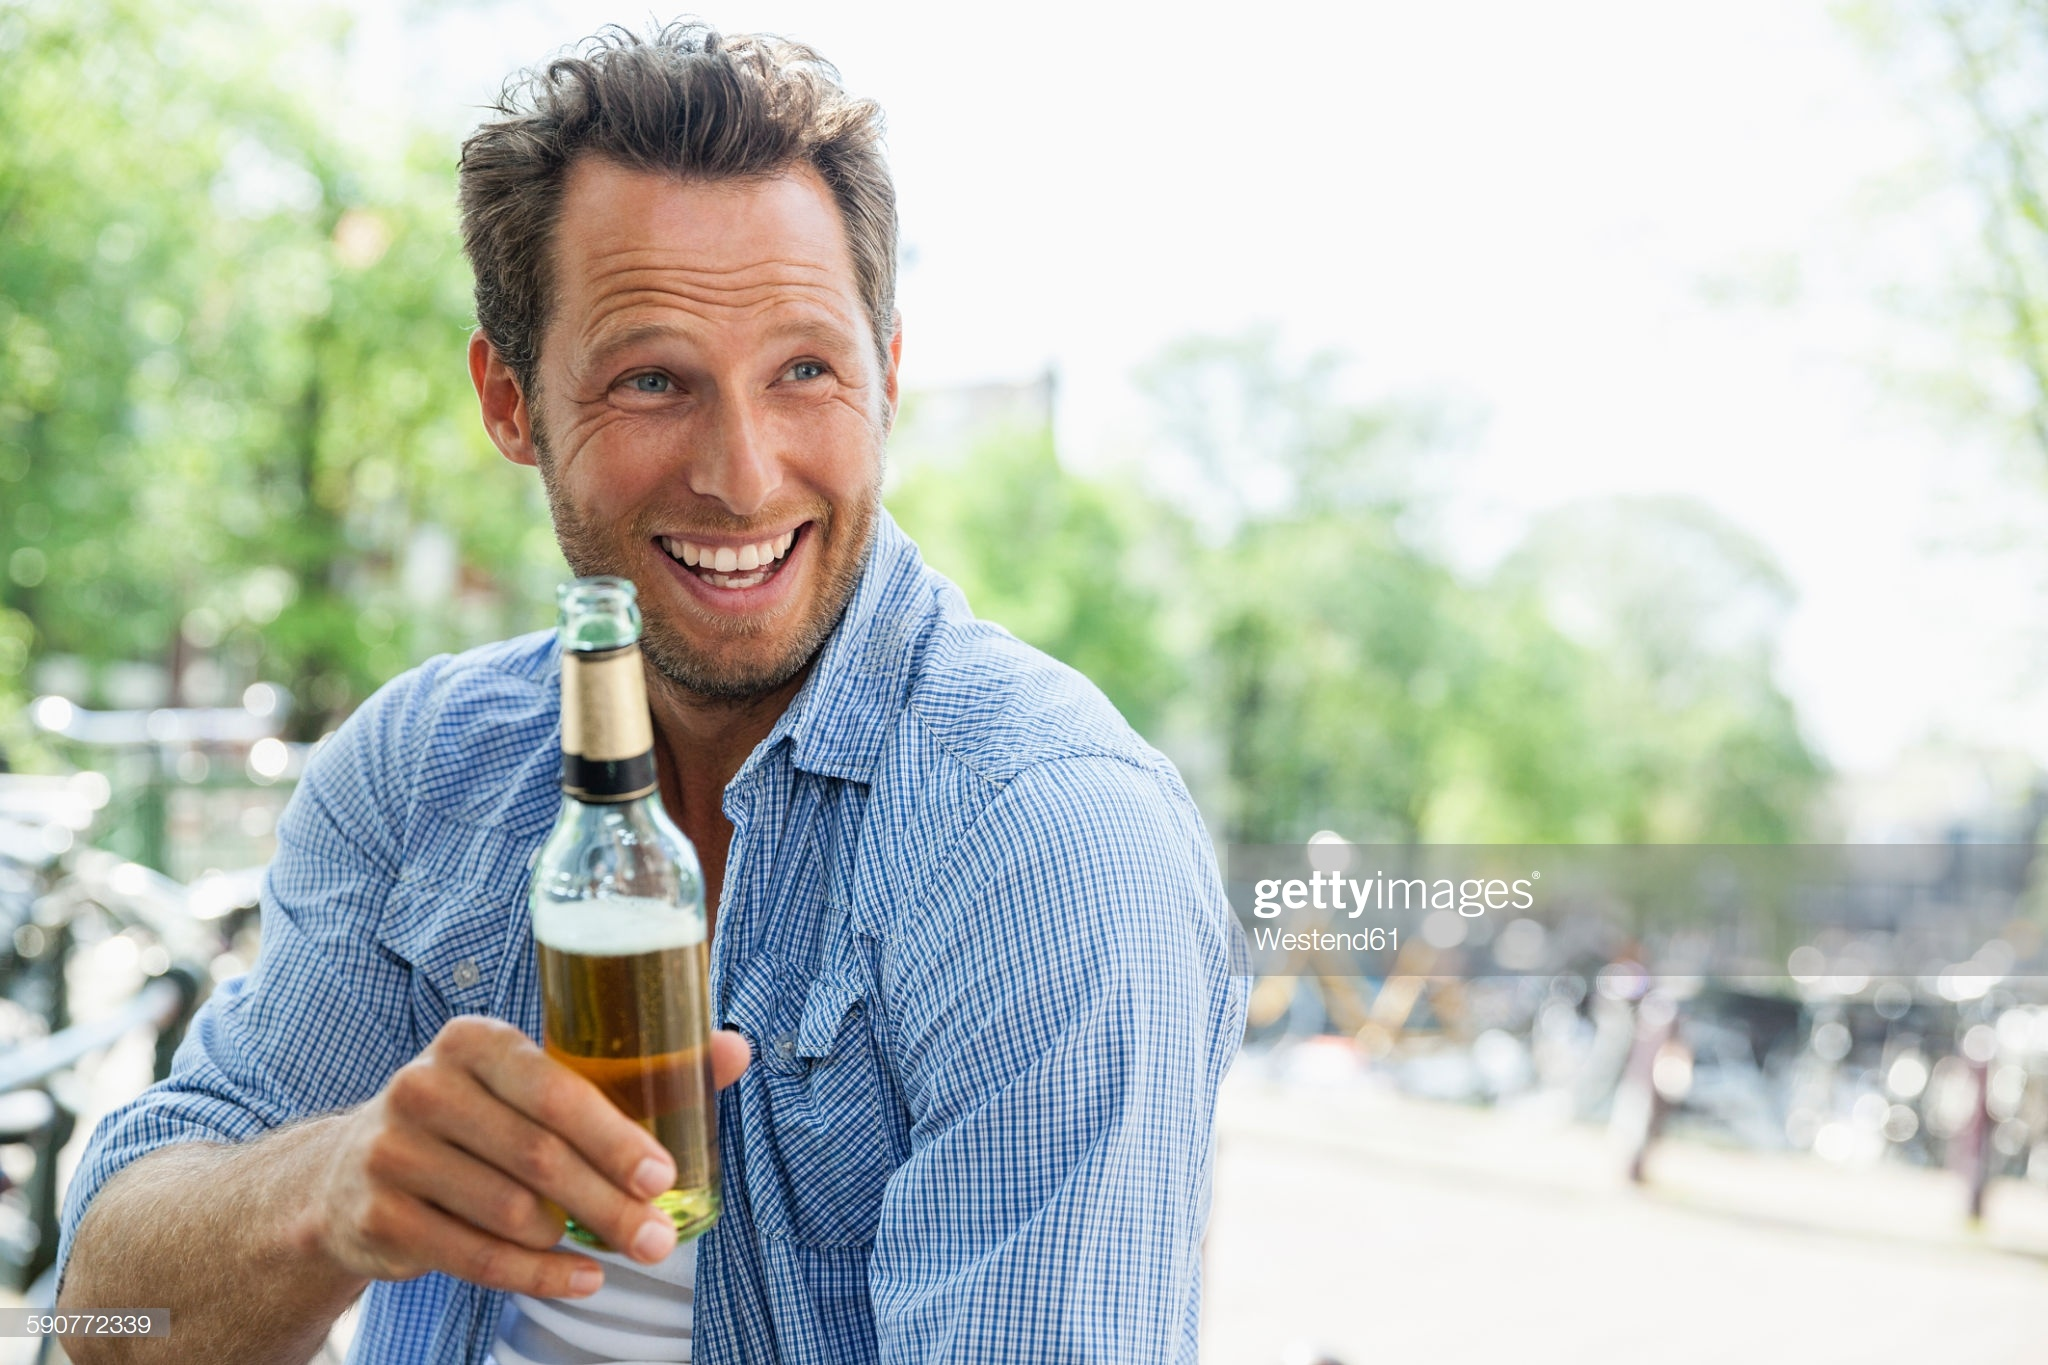beerBottle: (533, 583, 725, 1249)
